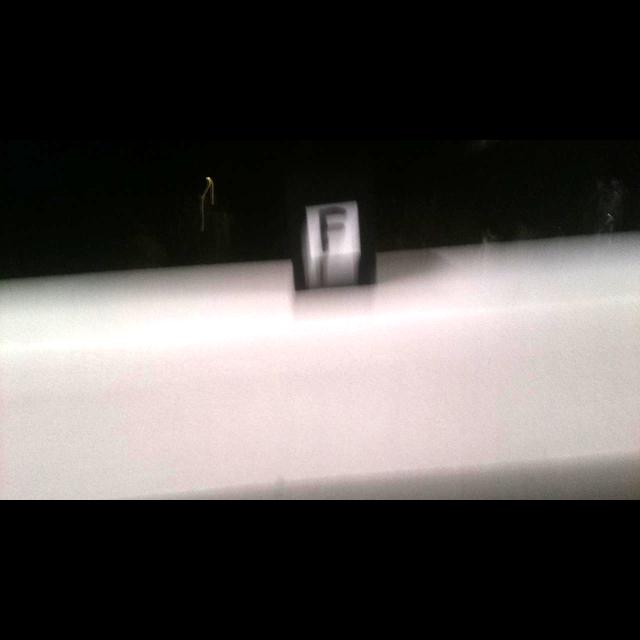F: (318, 207, 346, 251)
